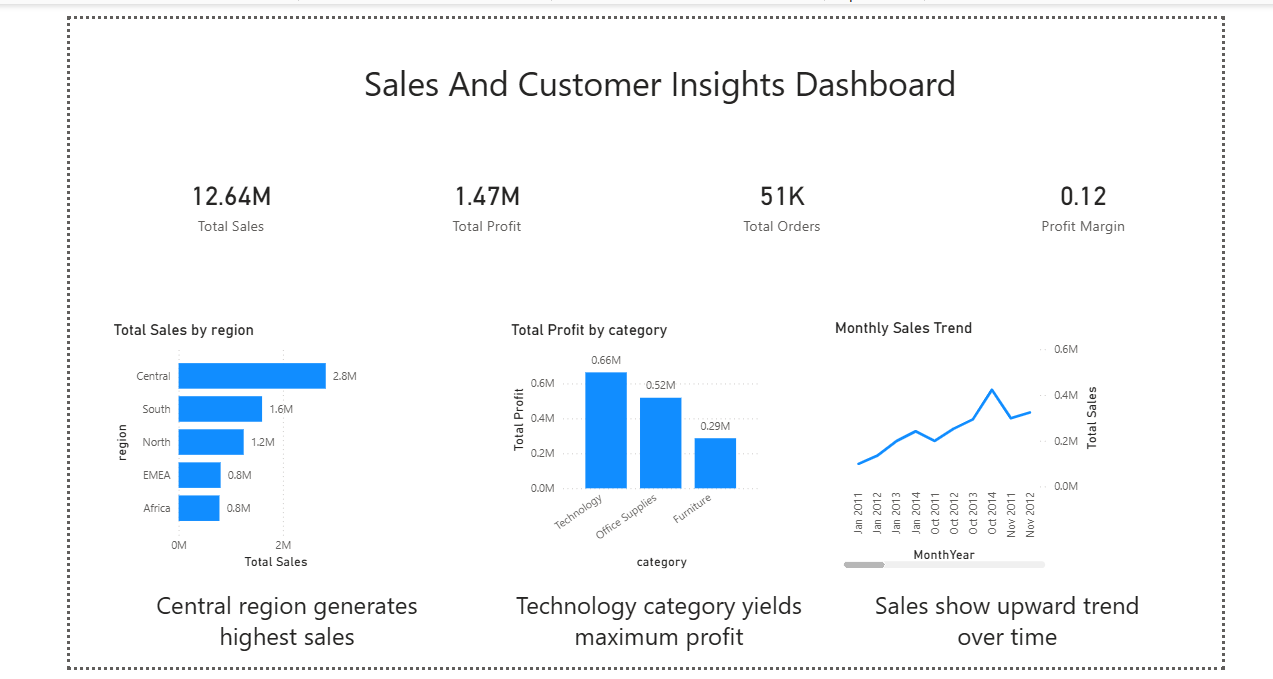

Layout of this report page (visuals, bound fields, positions):
{"tool":"powerbi","page":{"name":"Page 1","canvas":[1280,720],"ordinal":0},"visuals":[{"type":"card","fields":{"Values":["SuperStoreOrders.Total Sales"]},"box":[43.7,74.5,270.4,259.1],"z":0},{"type":"card","fields":{"Values":["SuperStoreOrders.Total Profit"]},"box":[328.7,74.5,268.8,259.1],"z":1000},{"type":"card","fields":{"Values":["SuperStoreOrders.Total Orders"]},"box":[639.6,74.5,301.2,259.1],"z":2000},{"type":"card","fields":{"Values":["SuperStoreOrders.Profit Margin"]},"box":[969.9,74.5,310.9,259.1],"z":3000},{"type":"clusteredBarChart","fields":{"Category":["SuperStoreOrders.region"],"Y":["SuperStoreOrders.Total Sales"]},"box":[43.7,335.2,307.7,280.1],"z":4000},{"type":"clusteredColumnChart","fields":{"Category":["SuperStoreOrders.category"],"Y":["SuperStoreOrders.Total Profit"]},"box":[485.8,335.2,286.6,280.1],"z":5000},{"type":"lineChart","title":"Monthly Sales Trend","fields":{"Y2":["SuperStoreOrders.Total Sales"],"Category":["SuperStoreOrders.MonthYear"]},"box":[845.2,333.6,301.2,281.7],"z":6000},{"type":"textbox","box":[197.5,40.5,914.9,74.5],"z":7000},{"type":"textbox","box":[76.1,626.6,328.7,82.6],"z":8000},{"type":"textbox","box":[463.1,626.6,382.1,82.6],"z":9000},{"type":"textbox","box":[863,626.6,356.2,82.6],"z":10000}]}

Visuals, with their boxes on the page's 1280x720 design canvas (x1, y1, x2, y2). These are canvas units, not pixel positions in the 1273x679 screenshot, which may show the page scaled, cropped or inside an application window:
card - SuperStoreOrders.Total Sales: crop(44, 74, 314, 334)
card - SuperStoreOrders.Total Profit: crop(329, 74, 598, 334)
card - SuperStoreOrders.Total Orders: crop(640, 74, 941, 334)
card - SuperStoreOrders.Profit Margin: crop(970, 74, 1281, 334)
clusteredBarChart - SuperStoreOrders.region x SuperStoreOrders.Total Sales: crop(44, 335, 351, 615)
clusteredColumnChart - SuperStoreOrders.category x SuperStoreOrders.Total Profit: crop(486, 335, 772, 615)
"Monthly Sales Trend" lineChart: crop(845, 334, 1146, 615)
textbox: crop(198, 40, 1112, 115)
textbox: crop(76, 627, 405, 709)
textbox: crop(463, 627, 845, 709)
textbox: crop(863, 627, 1219, 709)
